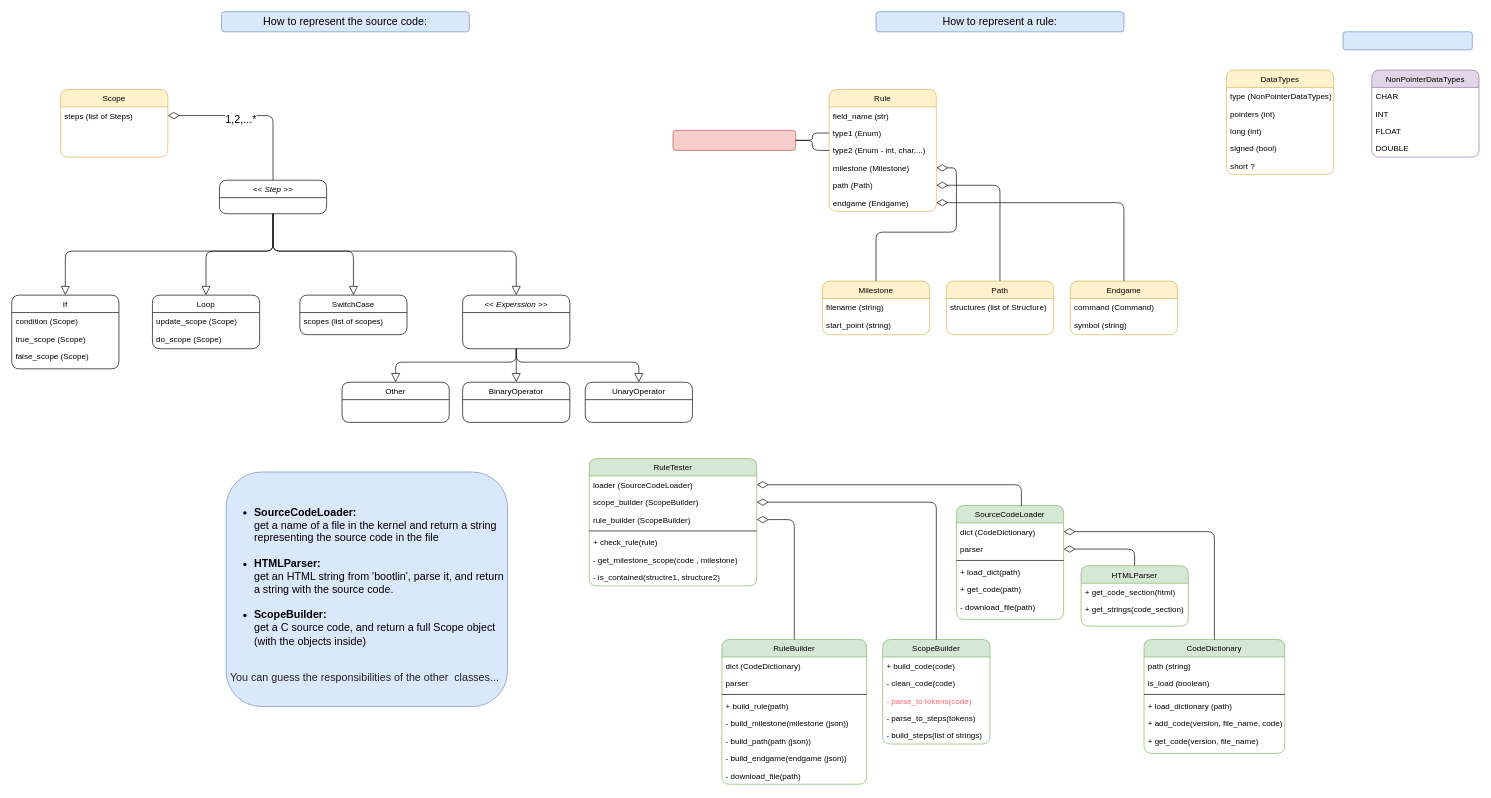
Image size: 1491x798. Some labels were removed from this diagram. Each missing label, with the centre of its shape:
"better name needed!" belongs at [734,140].
"enums!" belongs at [1407,40].
